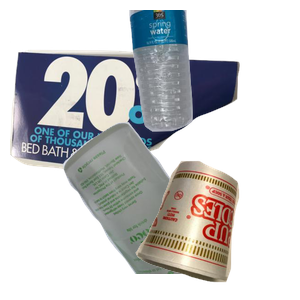glass: (60, 120, 300, 300)
paper: (10, 41, 242, 207)
plastic: (127, 10, 300, 134)
trash: (133, 158, 300, 300)
